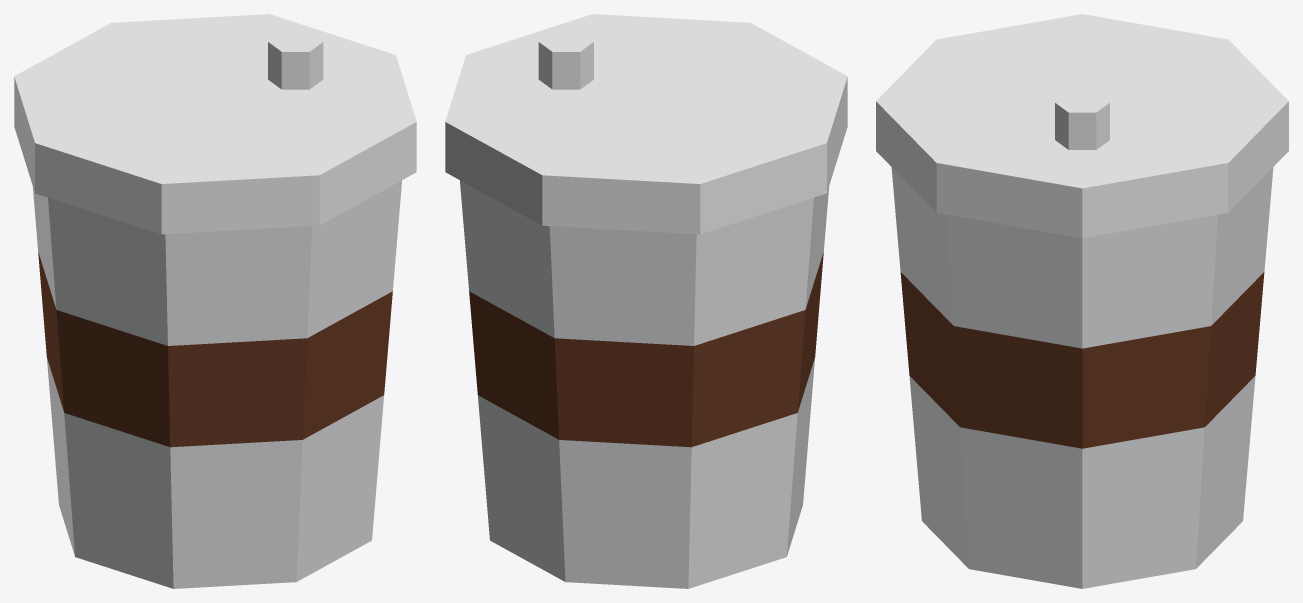
Rendered from CoffeeCup.fbx.
3 views of the same model, side by side, from view 1: azimuth 30°, elevation 25°; view 2: azimuth 150°, elevation 25°; view 3: azimuth 270°, elevation 25° (orthographic).
Parts seen in each view (by area): view 1: CoffeeCup; view 2: CoffeeCup; view 3: CoffeeCup.
Part boxes in pixels (<box>): CoffeeCup: <box>14,14,416,588</box>; CoffeeCup: <box>445,14,847,588</box>; CoffeeCup: <box>876,14,1288,588</box>.
Bounding box in the file's own units: 0.9 × 1.1 × 0.9.
Materials: 1 (1 with a texture image).
